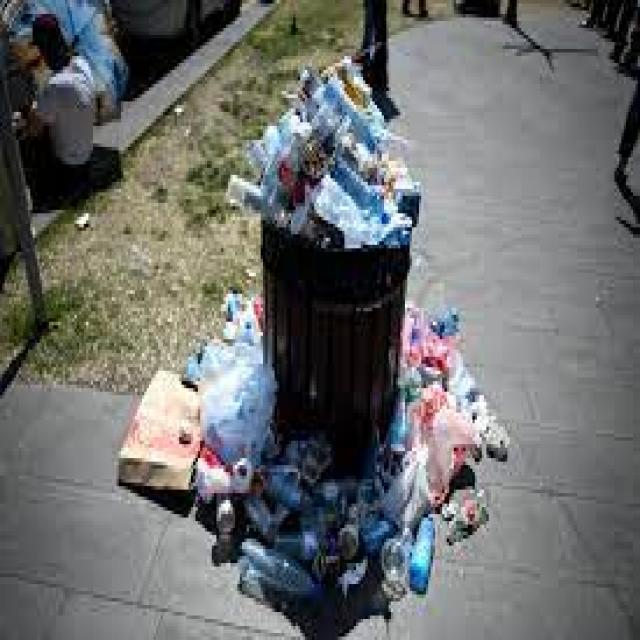garbage: (116, 296, 516, 638), (227, 59, 431, 284)
